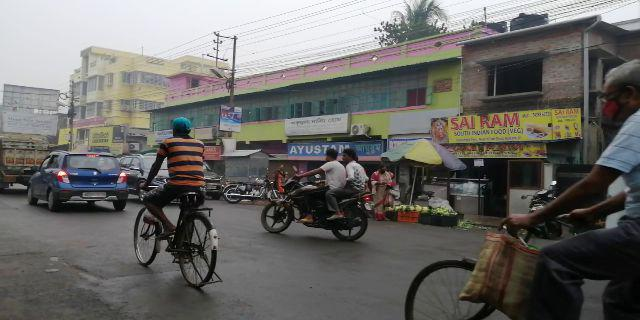Car: (32, 149, 128, 207)
Cycle: (131, 122, 223, 282)
Motorbike: (261, 142, 370, 245)
